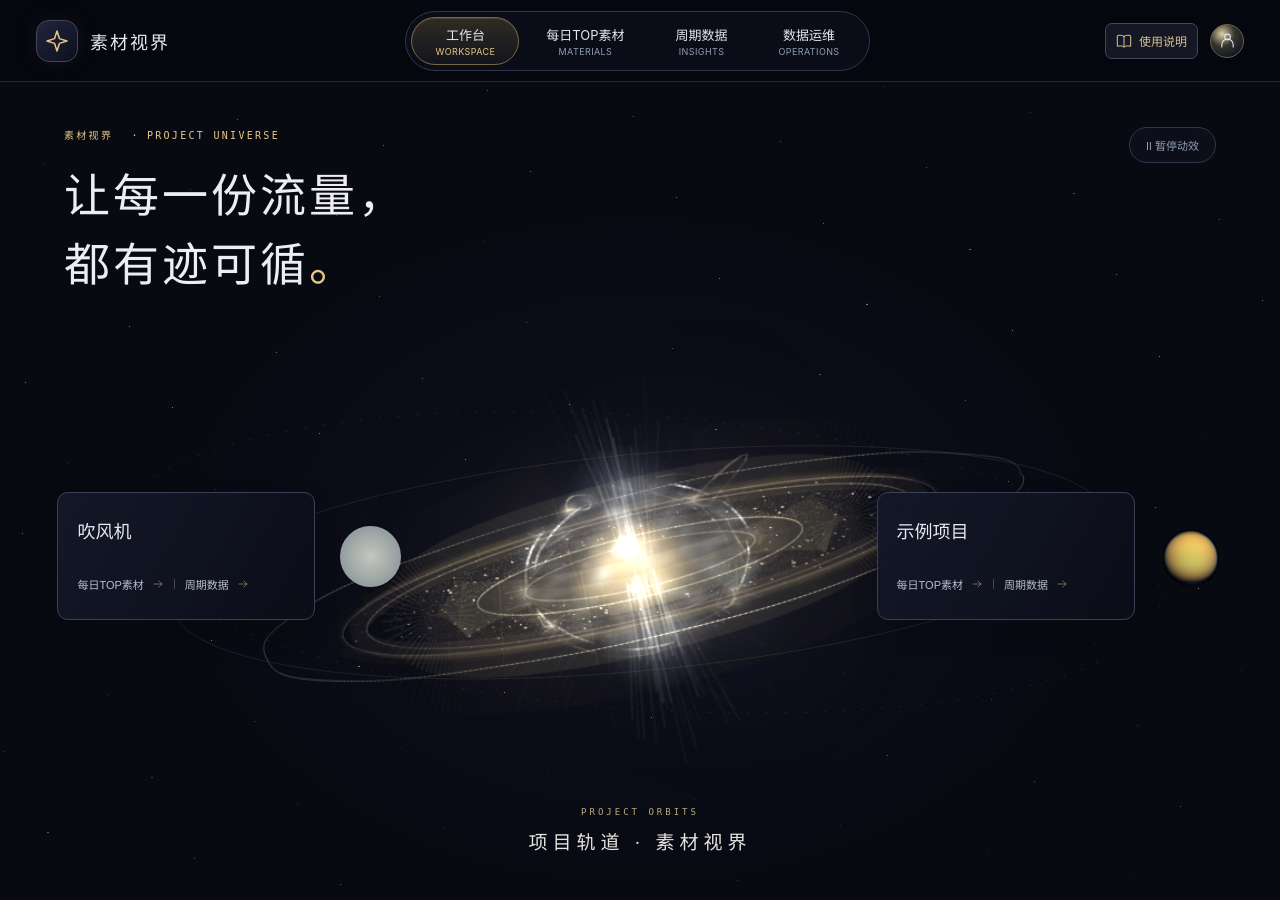
it: project satellite architecture › renders one satellite per project and enters the selected project without querying
Click the button with aria-label "示例项目：每日TOP素材": x=940, y=584 x1=897 y1=566 x2=983 y2=602
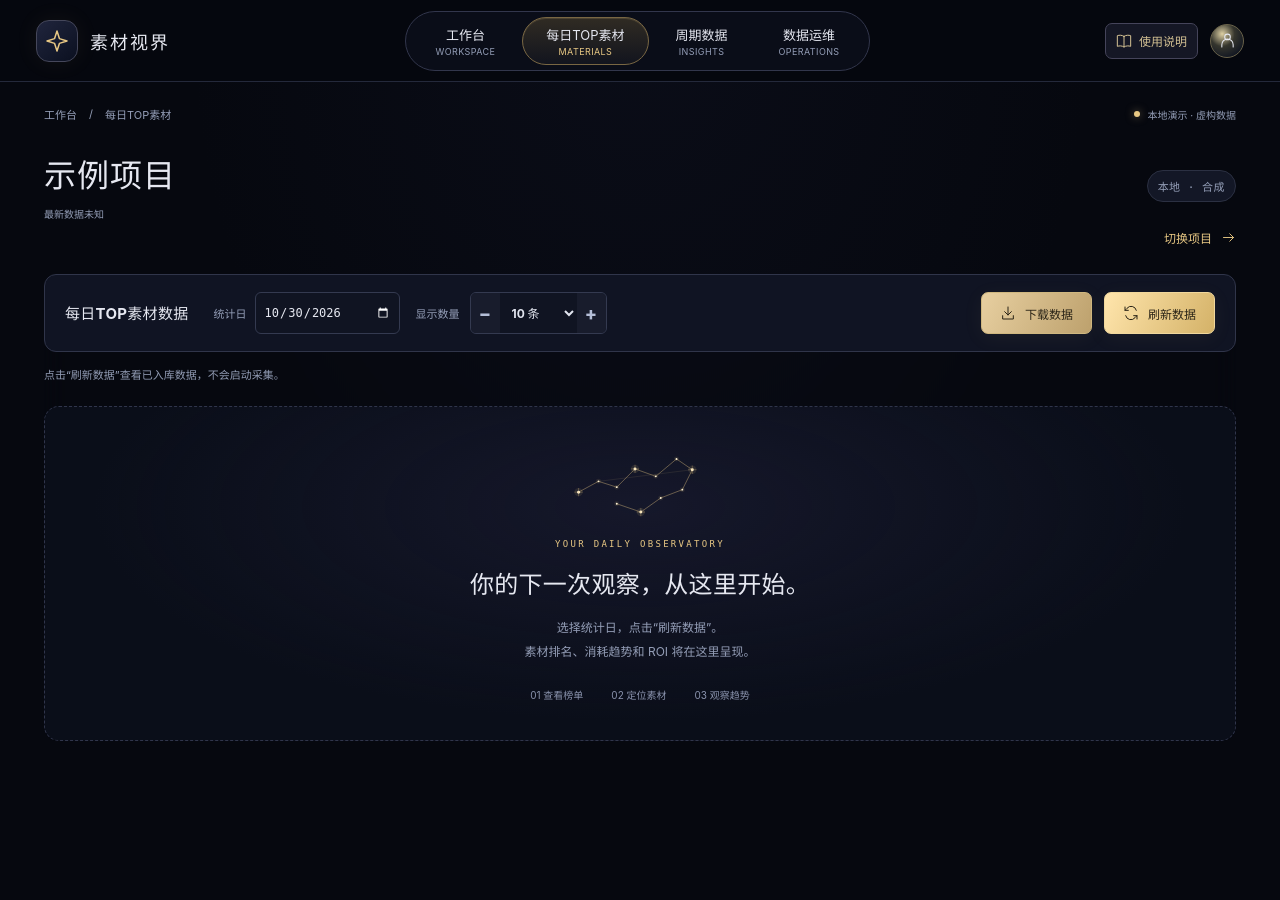
Expected: the heading "示例项目" is shown, x1=44 y1=150 x2=176 y2=196
Expected: the element with class "daily-panel" is shown, x1=44 y1=274 x2=1236 y2=741
